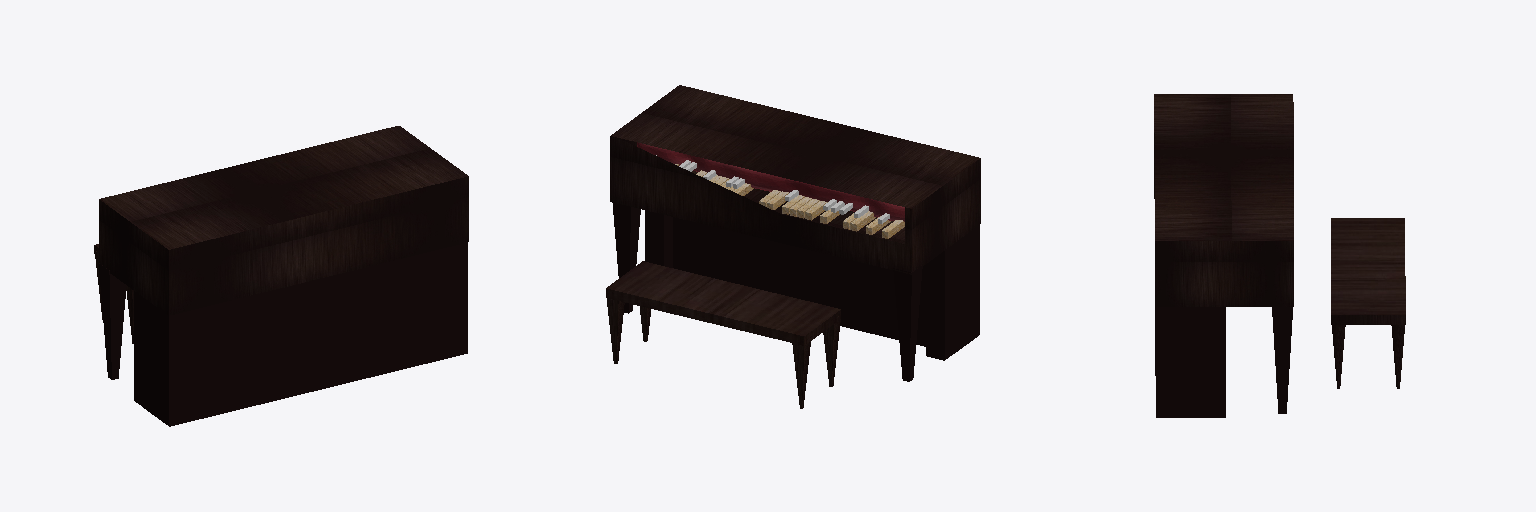
3 views of the same model, side by side, from view 1: azimuth 30°, elevation 25°; view 2: azimuth 150°, elevation 25°; view 3: azimuth 270°, elevation 25° (orthographic).
Parts seen in each view (by area): view 1: base_Cubo.005; view 2: base_Cubo.005, Cubo_Cubo.072, colchon_Cube.006; view 3: base_Cubo.005, Cubo_Cubo.072.
Boxes of the visible parts, box(x1,y1,x2,y2) form: base_Cubo.005: box(99, 126, 468, 426); base_Cubo.005: box(610, 85, 980, 381); Cubo_Cubo.072: box(606, 261, 840, 408); colchon_Cube.006: box(637, 142, 904, 221); base_Cubo.005: box(1154, 94, 1293, 417); Cubo_Cubo.072: box(1331, 218, 1405, 388).
Size of the model in its own units: 5.43 by 3.05 by 3.92.
5 materials, 3 textured.